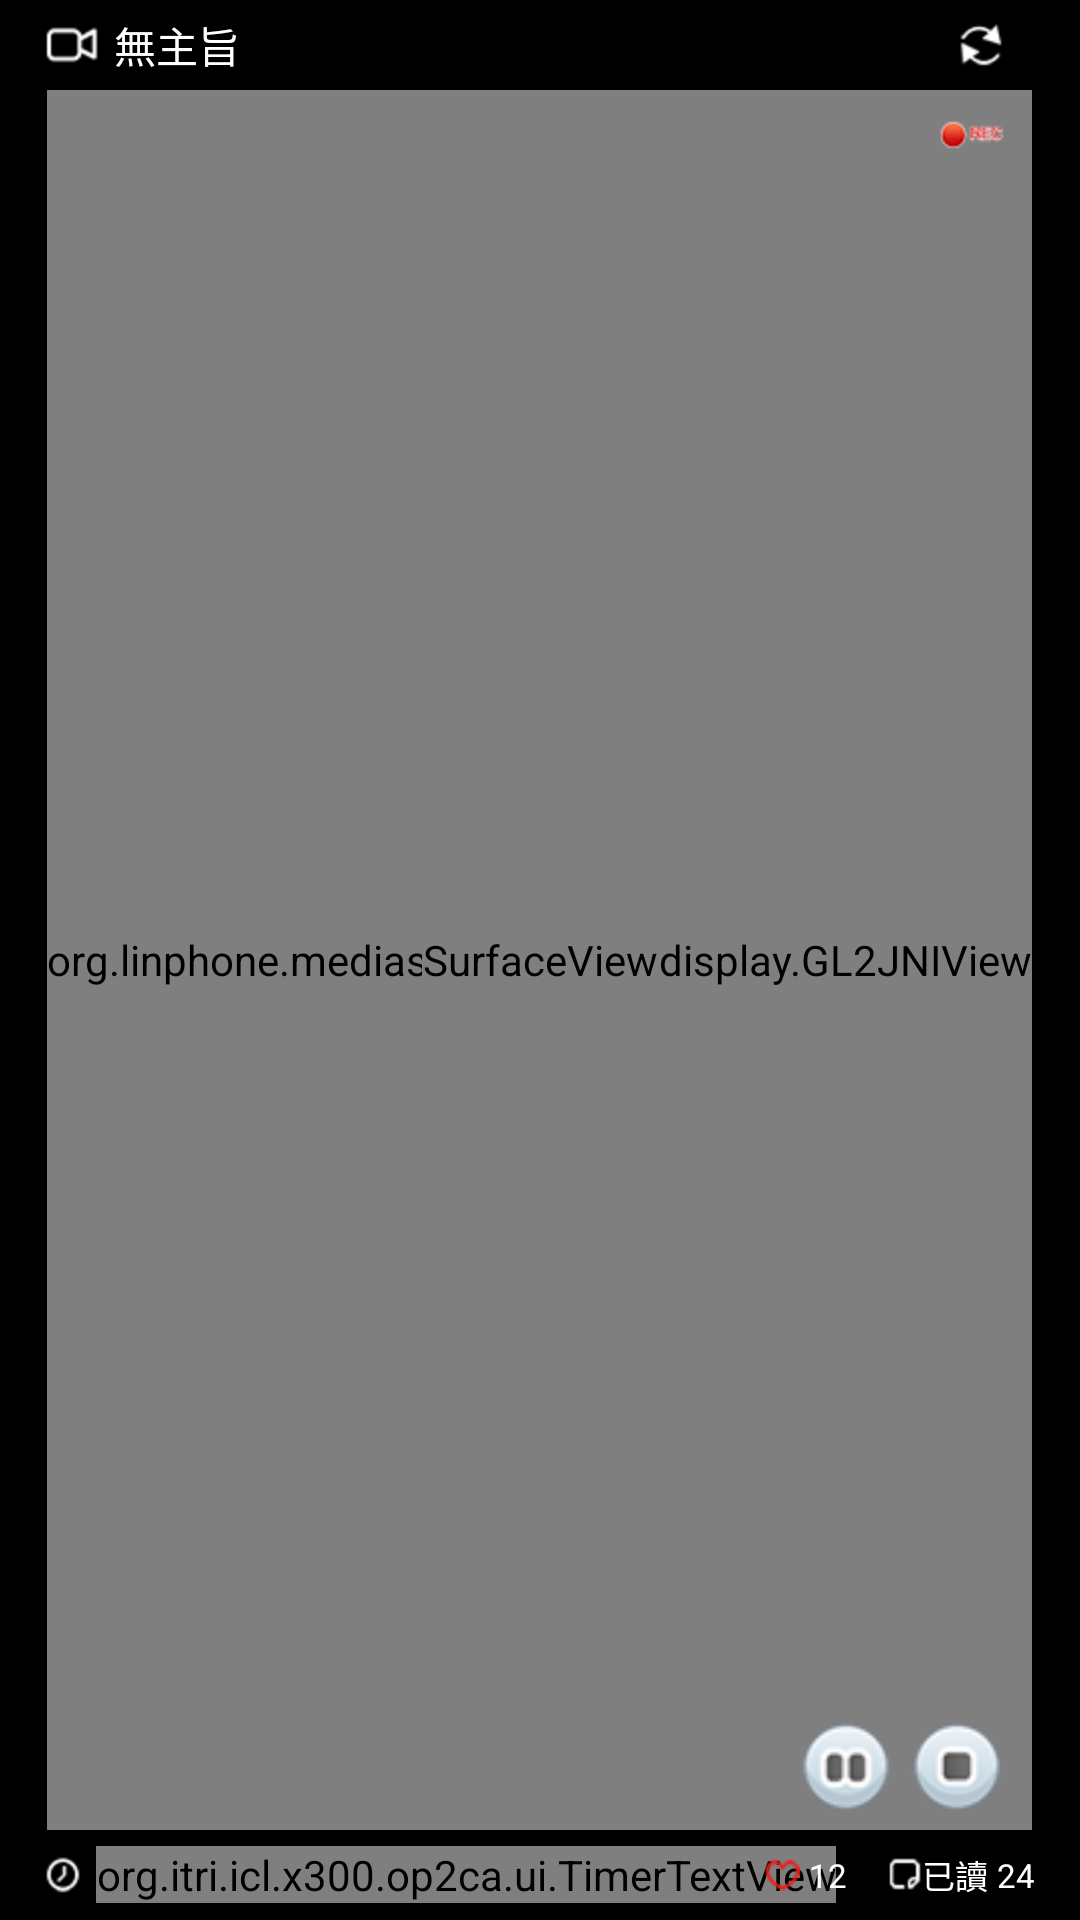

Icons on this 1080w x 1920h Android screen, each with the point to tap as [x,y]:
op switch: [981,45]
webdas ok time: [63,1875]
webdas ok vedio: [72,45]
webdas video stop: [957,1767]
webdas video wait: [846,1767]
